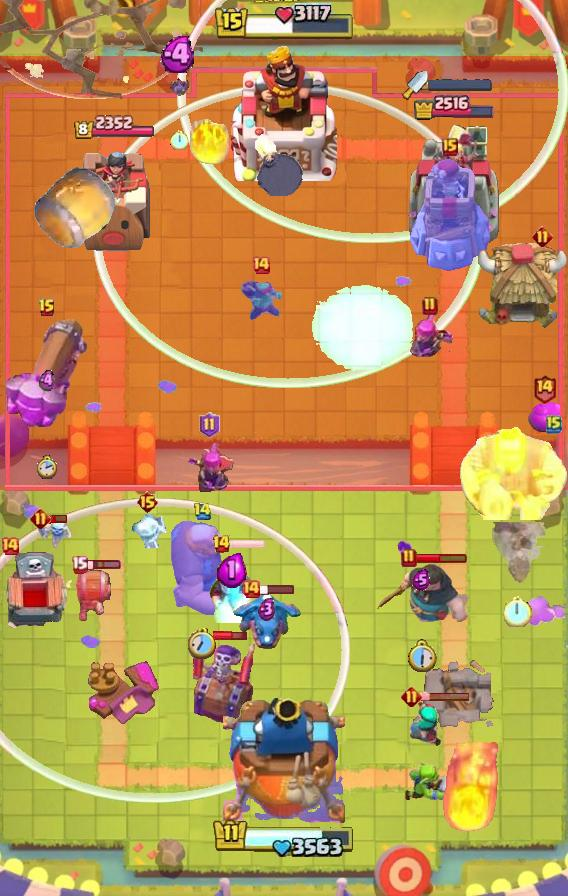baby-dragon: (252, 134, 304, 196)
balloon: (168, 516, 236, 618)
bar: (406, 122, 500, 256)
barbarian-barrel: (166, 71, 192, 101)
bat: (124, 507, 170, 551)
clock: (212, 818, 356, 860), (213, 3, 355, 43)
dirt: (32, 164, 118, 252)
electro-spirit: (160, 35, 199, 73), (217, 552, 247, 589), (258, 597, 276, 621), (412, 569, 430, 591), (39, 369, 55, 393)
elixir: (407, 639, 438, 673), (504, 595, 532, 627), (188, 629, 216, 659), (37, 455, 59, 480), (170, 130, 188, 150)
elixir-golem-mid: (0, 551, 70, 637)
emote: (415, 552, 469, 564), (419, 691, 471, 702), (213, 629, 248, 642), (230, 538, 267, 550), (86, 559, 123, 571), (259, 583, 295, 595), (48, 512, 68, 524)
evolution-symbol: (184, 440, 234, 496), (404, 308, 456, 360)
fisherman: (489, 523, 547, 586)
furnace: (2, 317, 92, 431)
giant-skeleton: (458, 426, 568, 520)
giant-snowball: (237, 279, 285, 323)
graveyard: (231, 589, 303, 653)
guard: (0, 1, 203, 100)
heal-spirit: (38, 517, 72, 549)
king-tower: (223, 698, 345, 826), (231, 43, 337, 181)
king-tower-bar: (428, 79, 492, 91)
knight: (64, 567, 114, 623)
mega-knight: (310, 284, 416, 377)
miner: (528, 402, 560, 432)
mortar: (207, 549, 257, 623)
prince: (474, 241, 568, 331)
queen-tower: (71, 144, 157, 255)
royal-hog: (373, 562, 469, 630)
selected: (413, 93, 496, 121), (72, 115, 155, 141)
skeleton-king-bar: (189, 632, 255, 726)
text: (532, 373, 557, 404), (136, 490, 159, 514), (199, 412, 220, 438), (531, 225, 552, 247), (30, 507, 51, 529), (401, 686, 422, 707), (251, 255, 271, 275), (212, 534, 232, 554), (0, 536, 20, 556), (241, 579, 261, 599), (193, 503, 212, 522), (38, 298, 56, 318), (71, 554, 89, 573), (422, 296, 438, 316), (546, 414, 562, 434), (401, 548, 417, 568), (442, 138, 458, 156)
valkyrie: (438, 742, 500, 834), (186, 115, 234, 167)
witch: (405, 699, 443, 749)
zap: (403, 758, 451, 803)
zappy: (407, 157, 492, 273)
